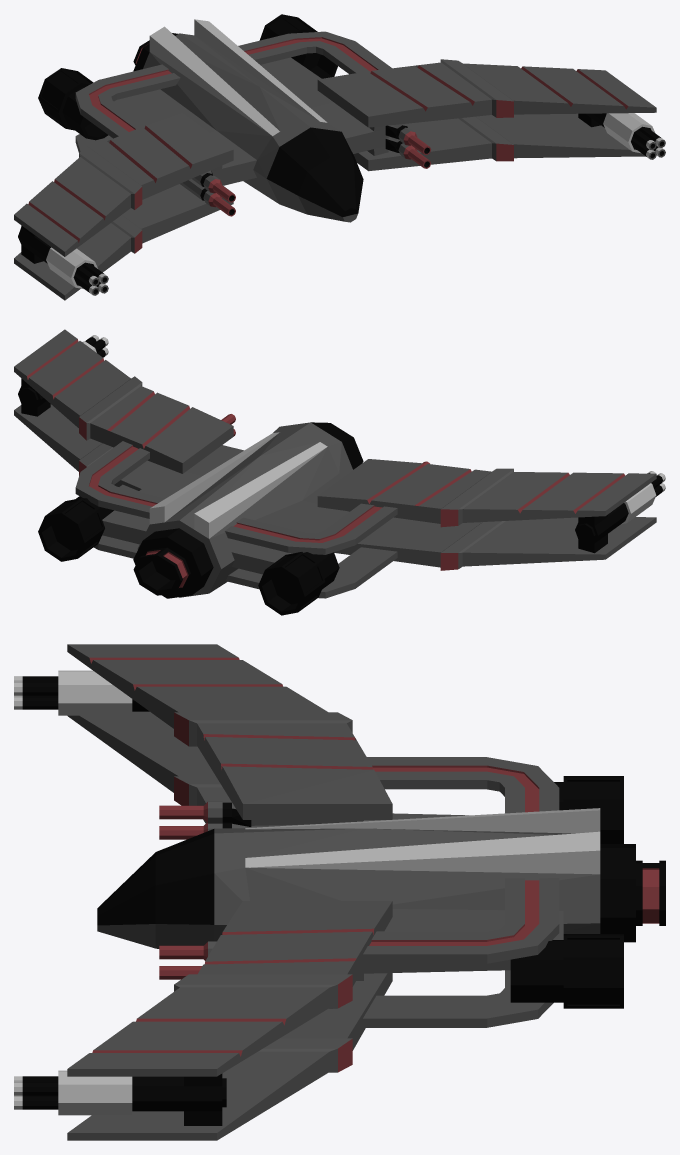
Rendered from Spaceship5_2.fbx.
The picture shows the model from 3 angles, top to bottom: view 1: azimuth 30°, elevation 25°; view 2: azimuth 150°, elevation 25°; view 3: azimuth 270°, elevation 25°; orthographic projection. The views are drawn at different scales.
Visible parts, largest first — view 1: Spaceship5_2; view 2: Spaceship5_2; view 3: Spaceship5_2.
Part boxes in pixels (x1,y1,x2,y2): Spaceship5_2: (14, 14, 665, 300); Spaceship5_2: (14, 329, 665, 615); Spaceship5_2: (14, 644, 665, 1140).
Bounding box in the file's own units: 1342 × 216 × 871.
